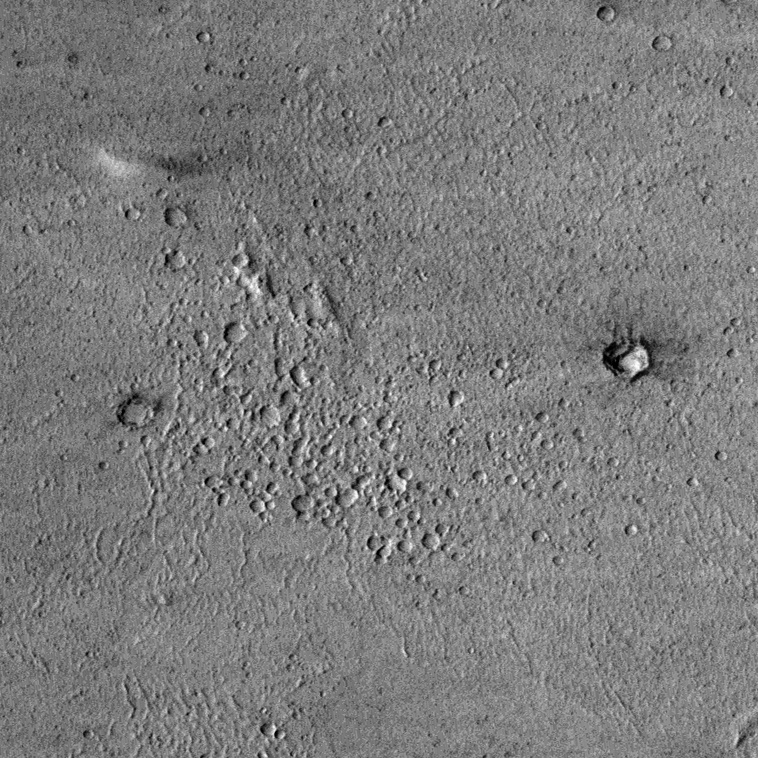dust_devil: (97, 144, 214, 182)
